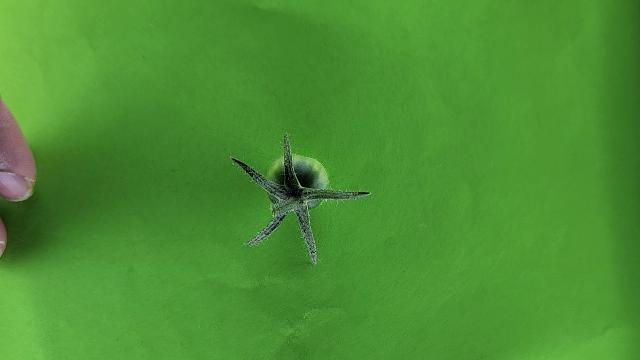Fruit Maturation: (265, 152, 331, 210)
